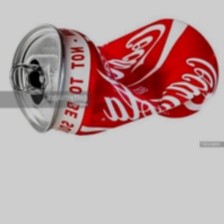can: (1, 6, 220, 143)
